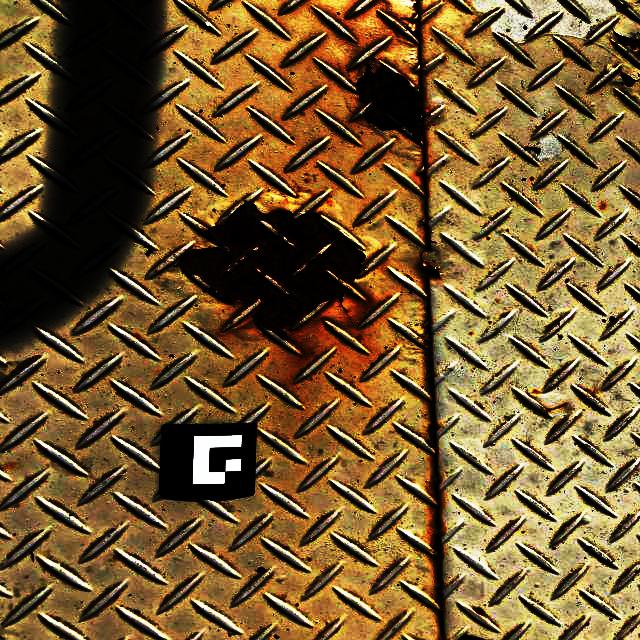Corrosion: (179, 190, 367, 344), (353, 57, 425, 143), (611, 29, 640, 54), (618, 69, 636, 89), (421, 263, 442, 278), (458, 634, 489, 640), (413, 29, 422, 41), (412, 2, 420, 14)
